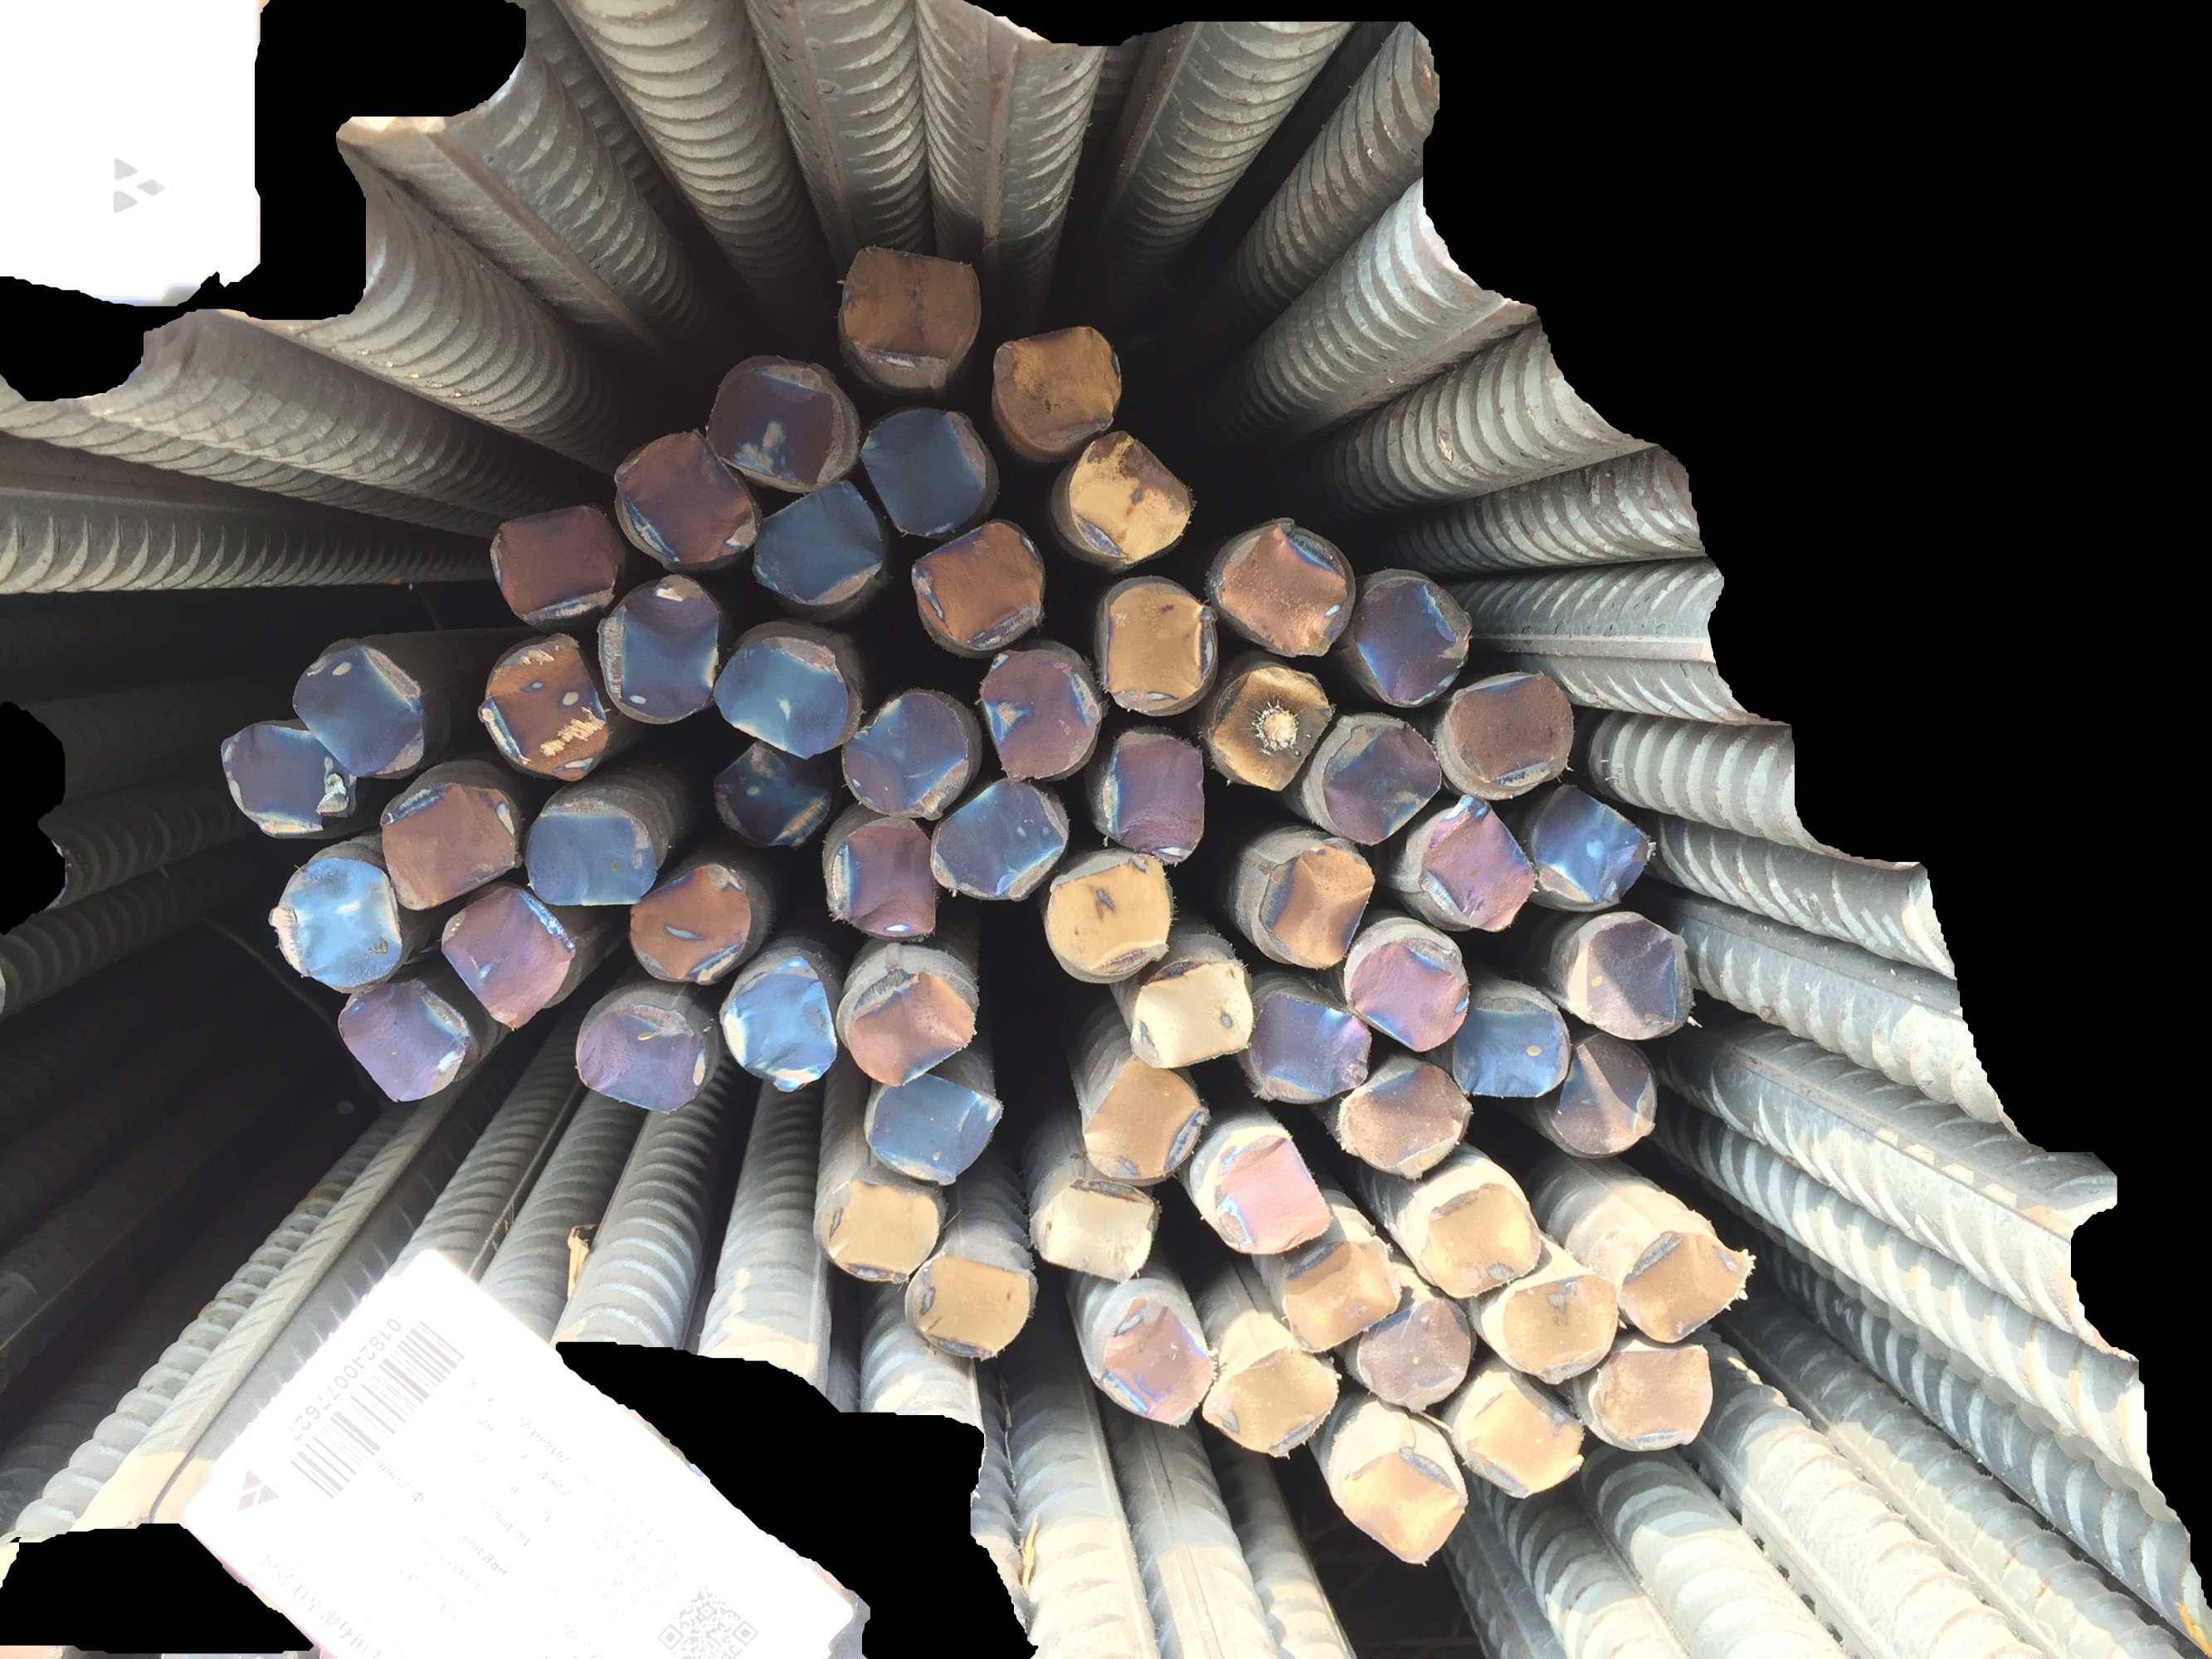rebar: (1442, 1349, 1590, 1509), (282, 636, 439, 782), (610, 427, 765, 573), (432, 882, 580, 1033), (835, 239, 985, 385), (589, 566, 725, 727), (1211, 512, 1353, 666), (1403, 786, 1544, 939), (371, 777, 526, 915), (267, 850, 410, 997), (847, 399, 994, 540), (905, 518, 1051, 659), (706, 629, 859, 763), (478, 631, 612, 784), (702, 356, 847, 497), (1060, 425, 1201, 568), (835, 683, 974, 826), (1037, 849, 1180, 988), (1522, 777, 1665, 917), (929, 774, 1074, 911), (990, 315, 1128, 458), (1088, 1290, 1225, 1432), (1442, 666, 1579, 807), (971, 640, 1107, 782), (211, 718, 366, 842), (748, 476, 889, 612), (1248, 831, 1382, 974), (1199, 1124, 1340, 1258), (329, 976, 474, 1107), (1327, 1443, 1471, 1574), (1204, 662, 1340, 800), (1313, 714, 1452, 849), (1346, 570, 1476, 713), (1330, 1058, 1476, 1185), (716, 951, 844, 1096), (1614, 1225, 1762, 1349), (622, 859, 760, 992), (838, 965, 985, 1089), (1196, 1340, 1342, 1464), (568, 995, 716, 1117), (1571, 913, 1706, 1046), (1581, 1330, 1722, 1457), (1075, 1051, 1208, 1185), (1096, 582, 1222, 723), (818, 809, 947, 945), (485, 497, 622, 624), (1274, 1230, 1408, 1359), (1340, 934, 1482, 1056), (865, 1072, 1008, 1192), (1093, 725, 1211, 870), (1541, 1030, 1668, 1164), (1346, 1295, 1483, 1417), (1415, 1178, 1550, 1302), (1028, 1169, 1166, 1288), (521, 796, 661, 913), (1245, 985, 1374, 1110), (704, 737, 838, 856), (1124, 955, 1260, 1072), (901, 1251, 1039, 1366), (1494, 1270, 1625, 1387), (816, 1178, 948, 1290), (1445, 992, 1572, 1100)
